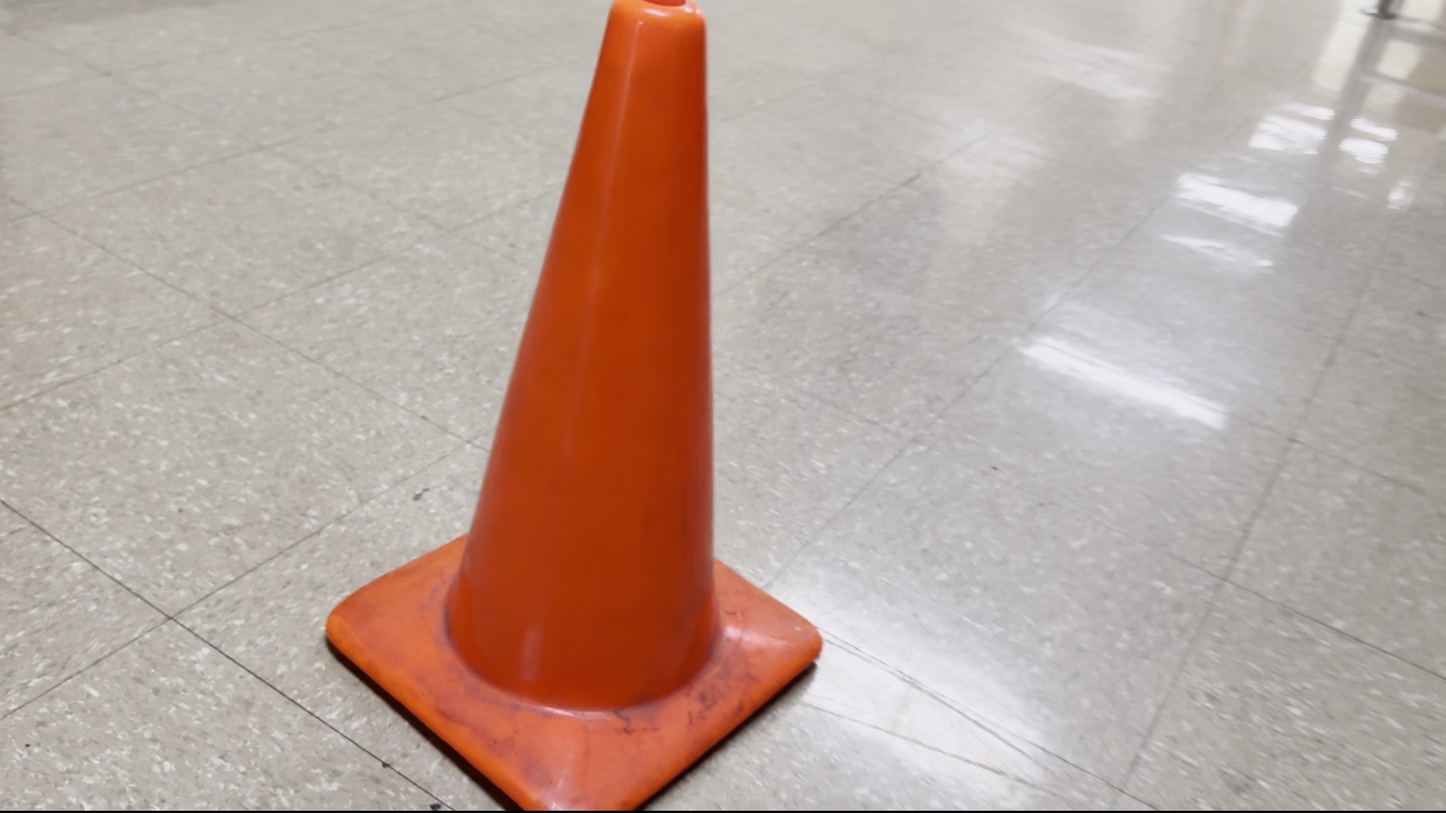traffic_cone: (324, 1, 824, 811)
